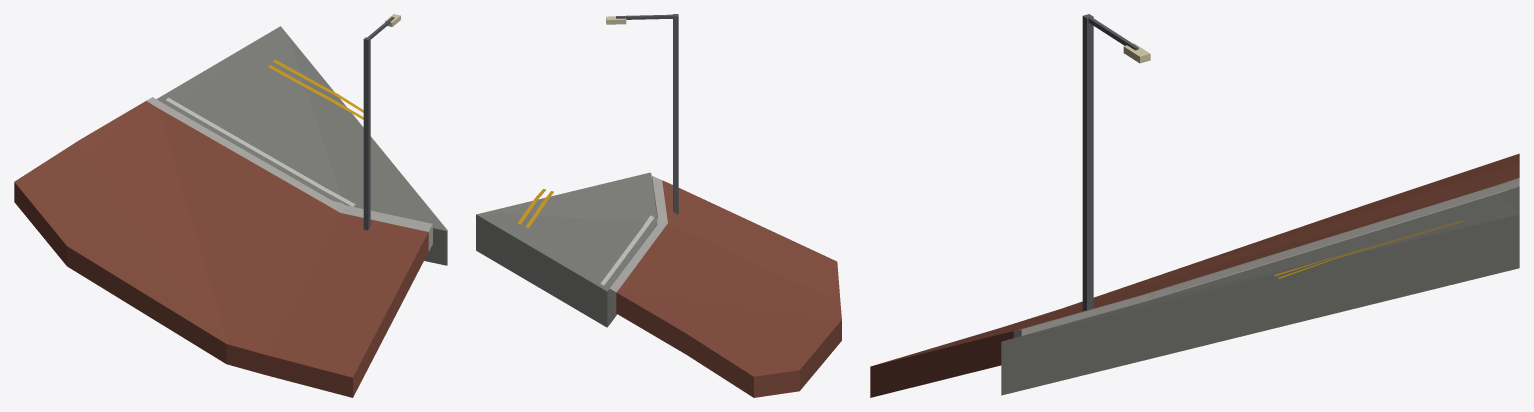
The picture shows the model from 3 angles, left to right: view 1: azimuth 30°, elevation 25°; view 2: azimuth 150°, elevation 25°; view 3: azimuth 270°, elevation 25°; orthographic projection. The views are drawn at different scales.
Bounding box in the file's own units: 10.11 × 9.93 × 13.12.
